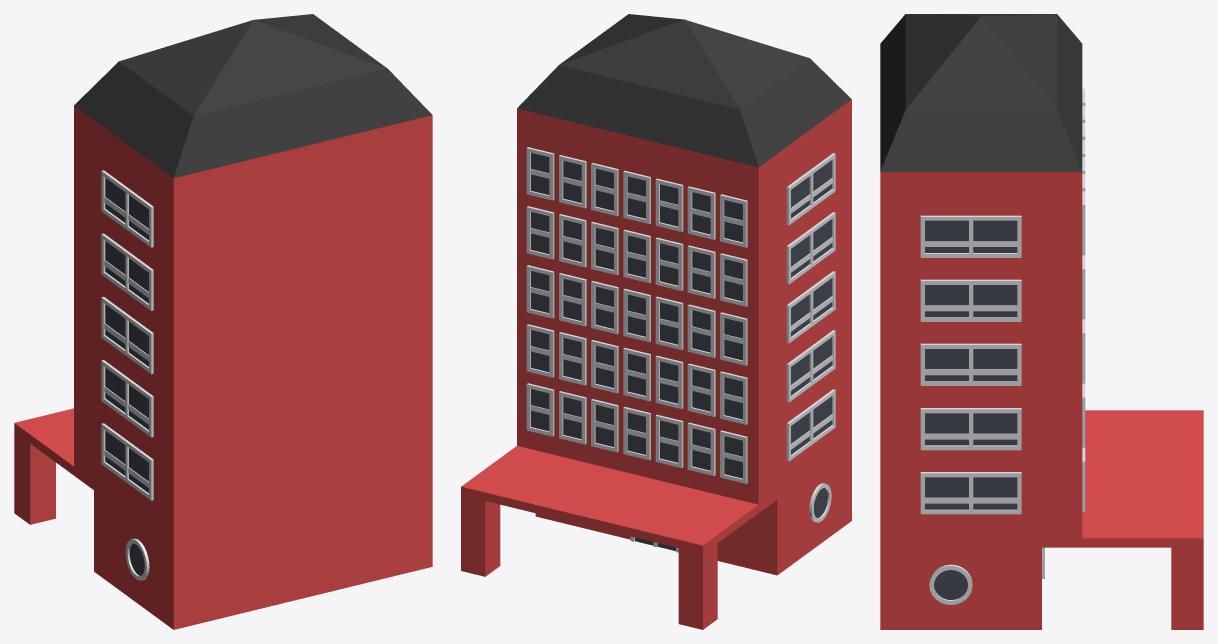
File: Building 01.fbx
3 renders of one model, left to right at view 1: azimuth 30°, elevation 25°; view 2: azimuth 150°, elevation 25°; view 3: azimuth 270°, elevation 25°, orthographic. The views are drawn at different scales.
Parts seen in each view (by area): view 1: block_1, block_columns_0, roof_point_divided_2, window_width_39, window_width_48, window_width_42, window_width_44, window_width_46, window_round_50; view 2: block_1, block_columns_0, roof_point_divided_2, window_width_39, window_width_42, window_width_48, window_width_44, window_width_46, window_33, window_4, window_13, window_17 (+32 smaller); view 3: block_1, block_columns_0, roof_point_divided_2, window_width_40, window_width_41, window_width_43, window_width_45, window_width_47, window_round_51.
Boxes of the visible parts, box(x1,y1,x2,y2) form: block_1: box(74, 105, 432, 539); block_columns_0: box(14, 408, 432, 629); roof_point_divided_2: box(74, 14, 432, 177); window_width_39: box(101, 423, 153, 500); window_width_48: box(101, 170, 153, 247); window_width_42: box(101, 360, 153, 437); window_width_44: box(101, 297, 153, 374); window_width_46: box(101, 233, 153, 310); window_round_50: box(125, 538, 149, 580); block_1: box(517, 99, 851, 504); block_columns_0: box(461, 437, 851, 629); roof_point_divided_2: box(517, 14, 851, 167); window_width_39: box(786, 389, 835, 461); window_width_42: box(786, 330, 835, 402); window_width_48: box(786, 153, 835, 225); window_width_44: box(786, 271, 835, 343); window_width_46: box(786, 212, 835, 284); window_33: box(687, 186, 715, 239); window_4: box(526, 383, 554, 436); window_13: box(655, 355, 683, 409); window_17: box(526, 324, 554, 377); block_1: box(880, 172, 1082, 538); block_columns_0: box(880, 410, 1203, 629); roof_point_divided_2: box(880, 14, 1082, 171); window_width_40: box(920, 472, 1021, 514); window_width_41: box(920, 408, 1021, 450); window_width_43: box(920, 343, 1021, 385); window_width_45: box(920, 279, 1021, 321); window_width_47: box(920, 215, 1021, 257); window_round_51: box(929, 564, 972, 604).
Bounding box in the file's own units: 30.6 × 60 × 32.
